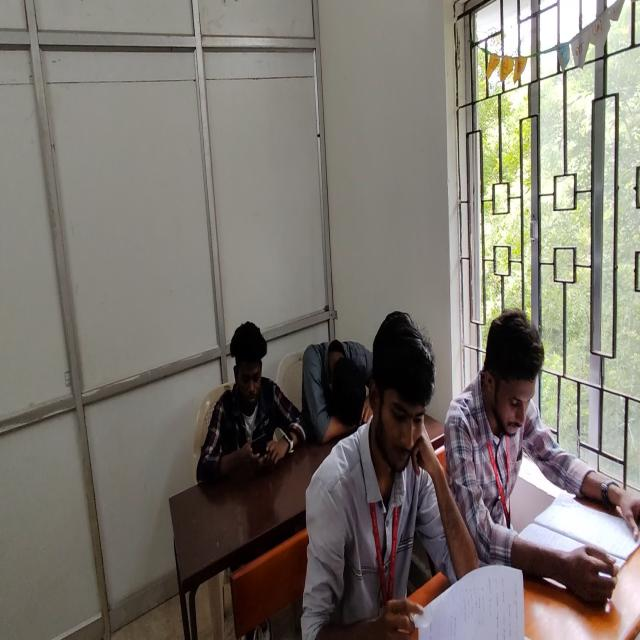reading: (448, 308, 640, 602), (301, 314, 458, 640)
sleeping: (300, 337, 371, 447)
using_mobile: (196, 317, 308, 486)
